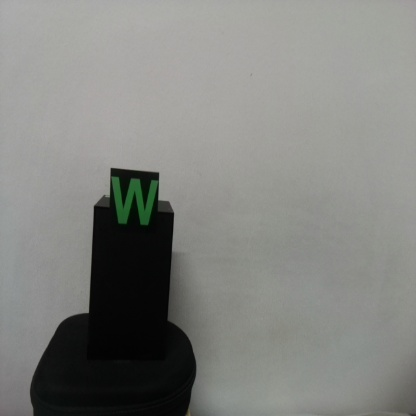id_12: (110, 169, 160, 237)
